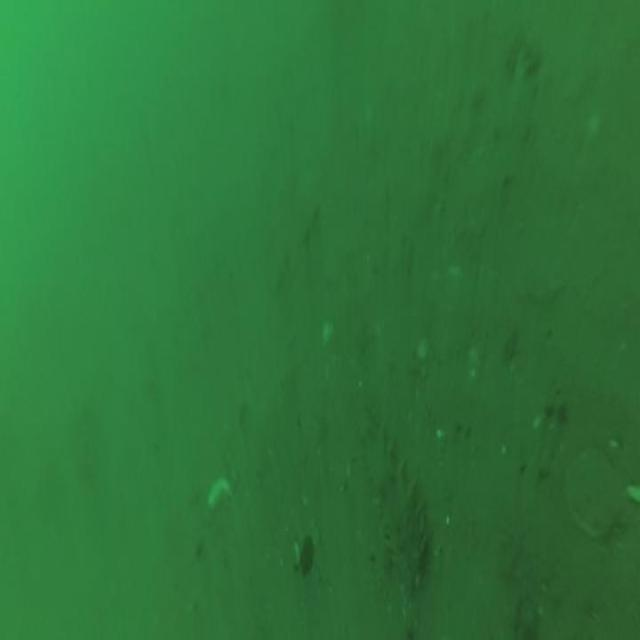holothurian: (356, 418, 430, 590)
scallop: (563, 447, 622, 539)
